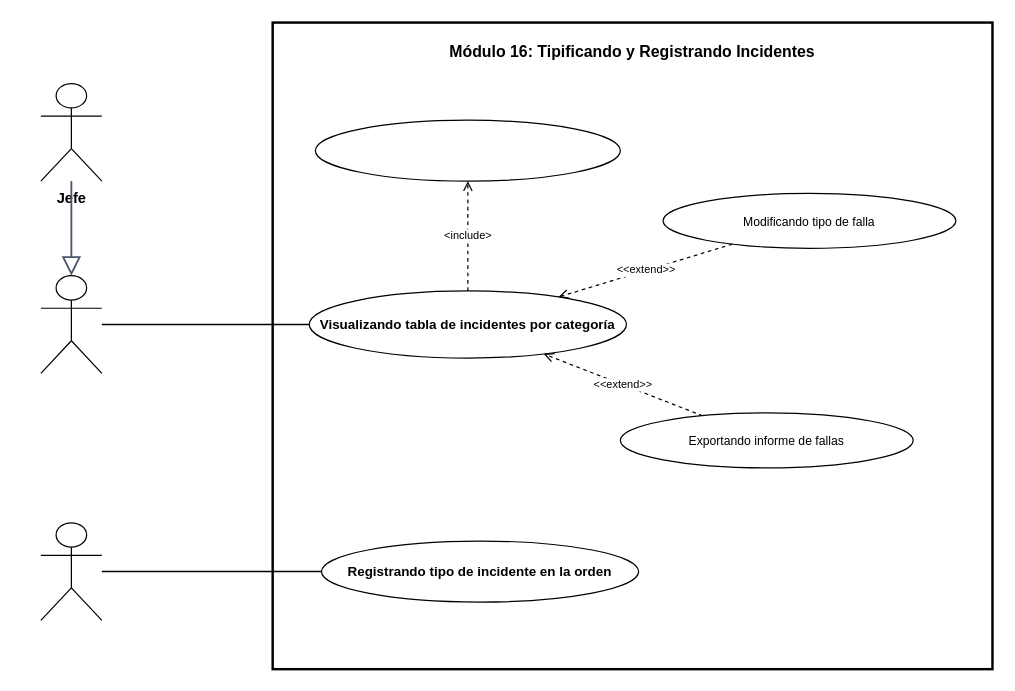
This 1015x691 diagram has some shape labels left out. Here are the shapes that lost their labels. From the top down, the centre of each, then its label:
At point (467, 150): "Graficando distribución de fallas".
At point (71, 323): "Administrador".
At point (71, 571): "Operador".
